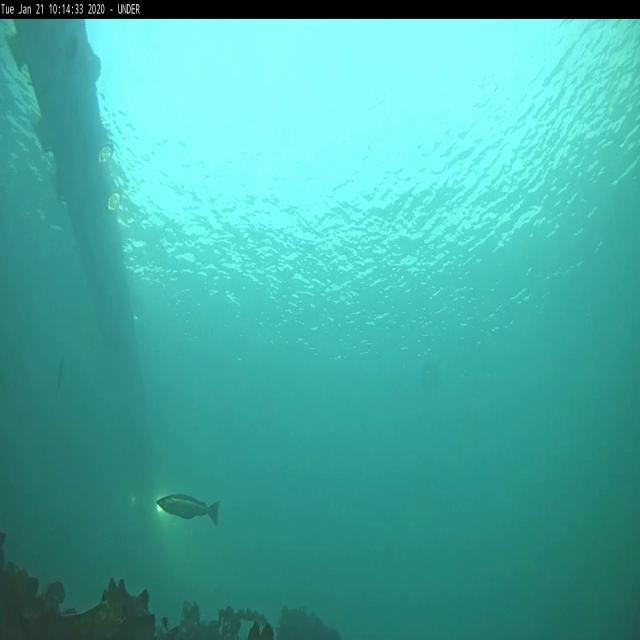fish: (155, 495, 220, 524), (54, 356, 64, 396)
